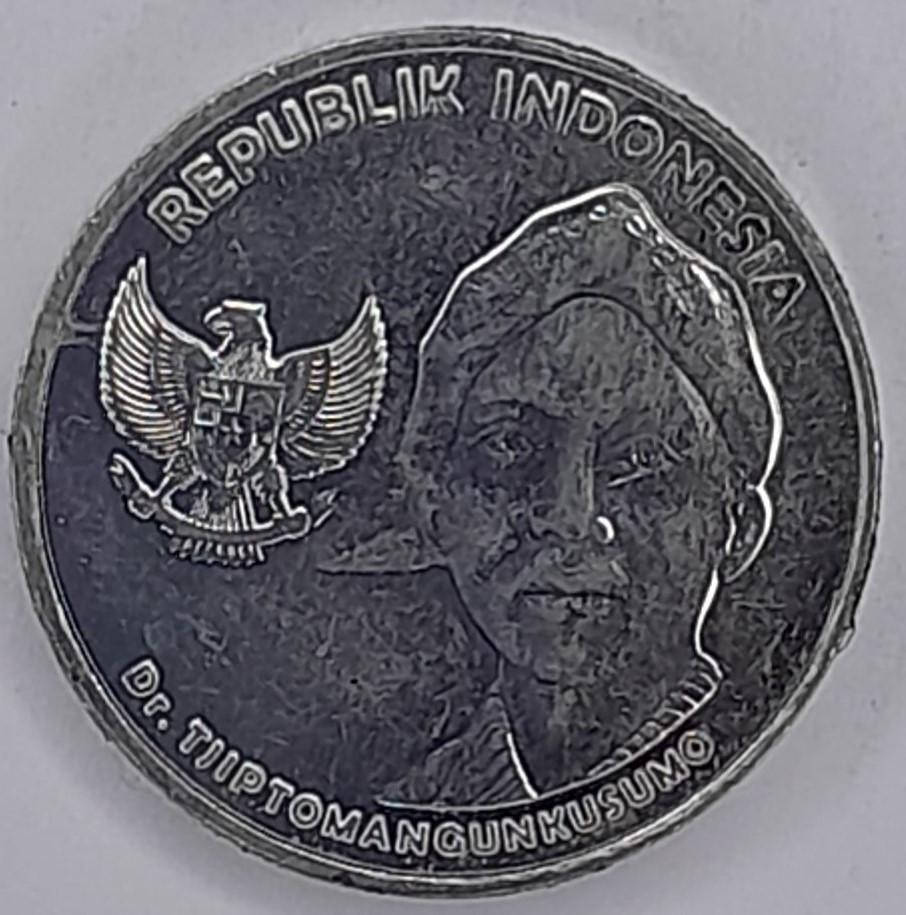coin_200_e2016: (0, 16, 906, 915)
